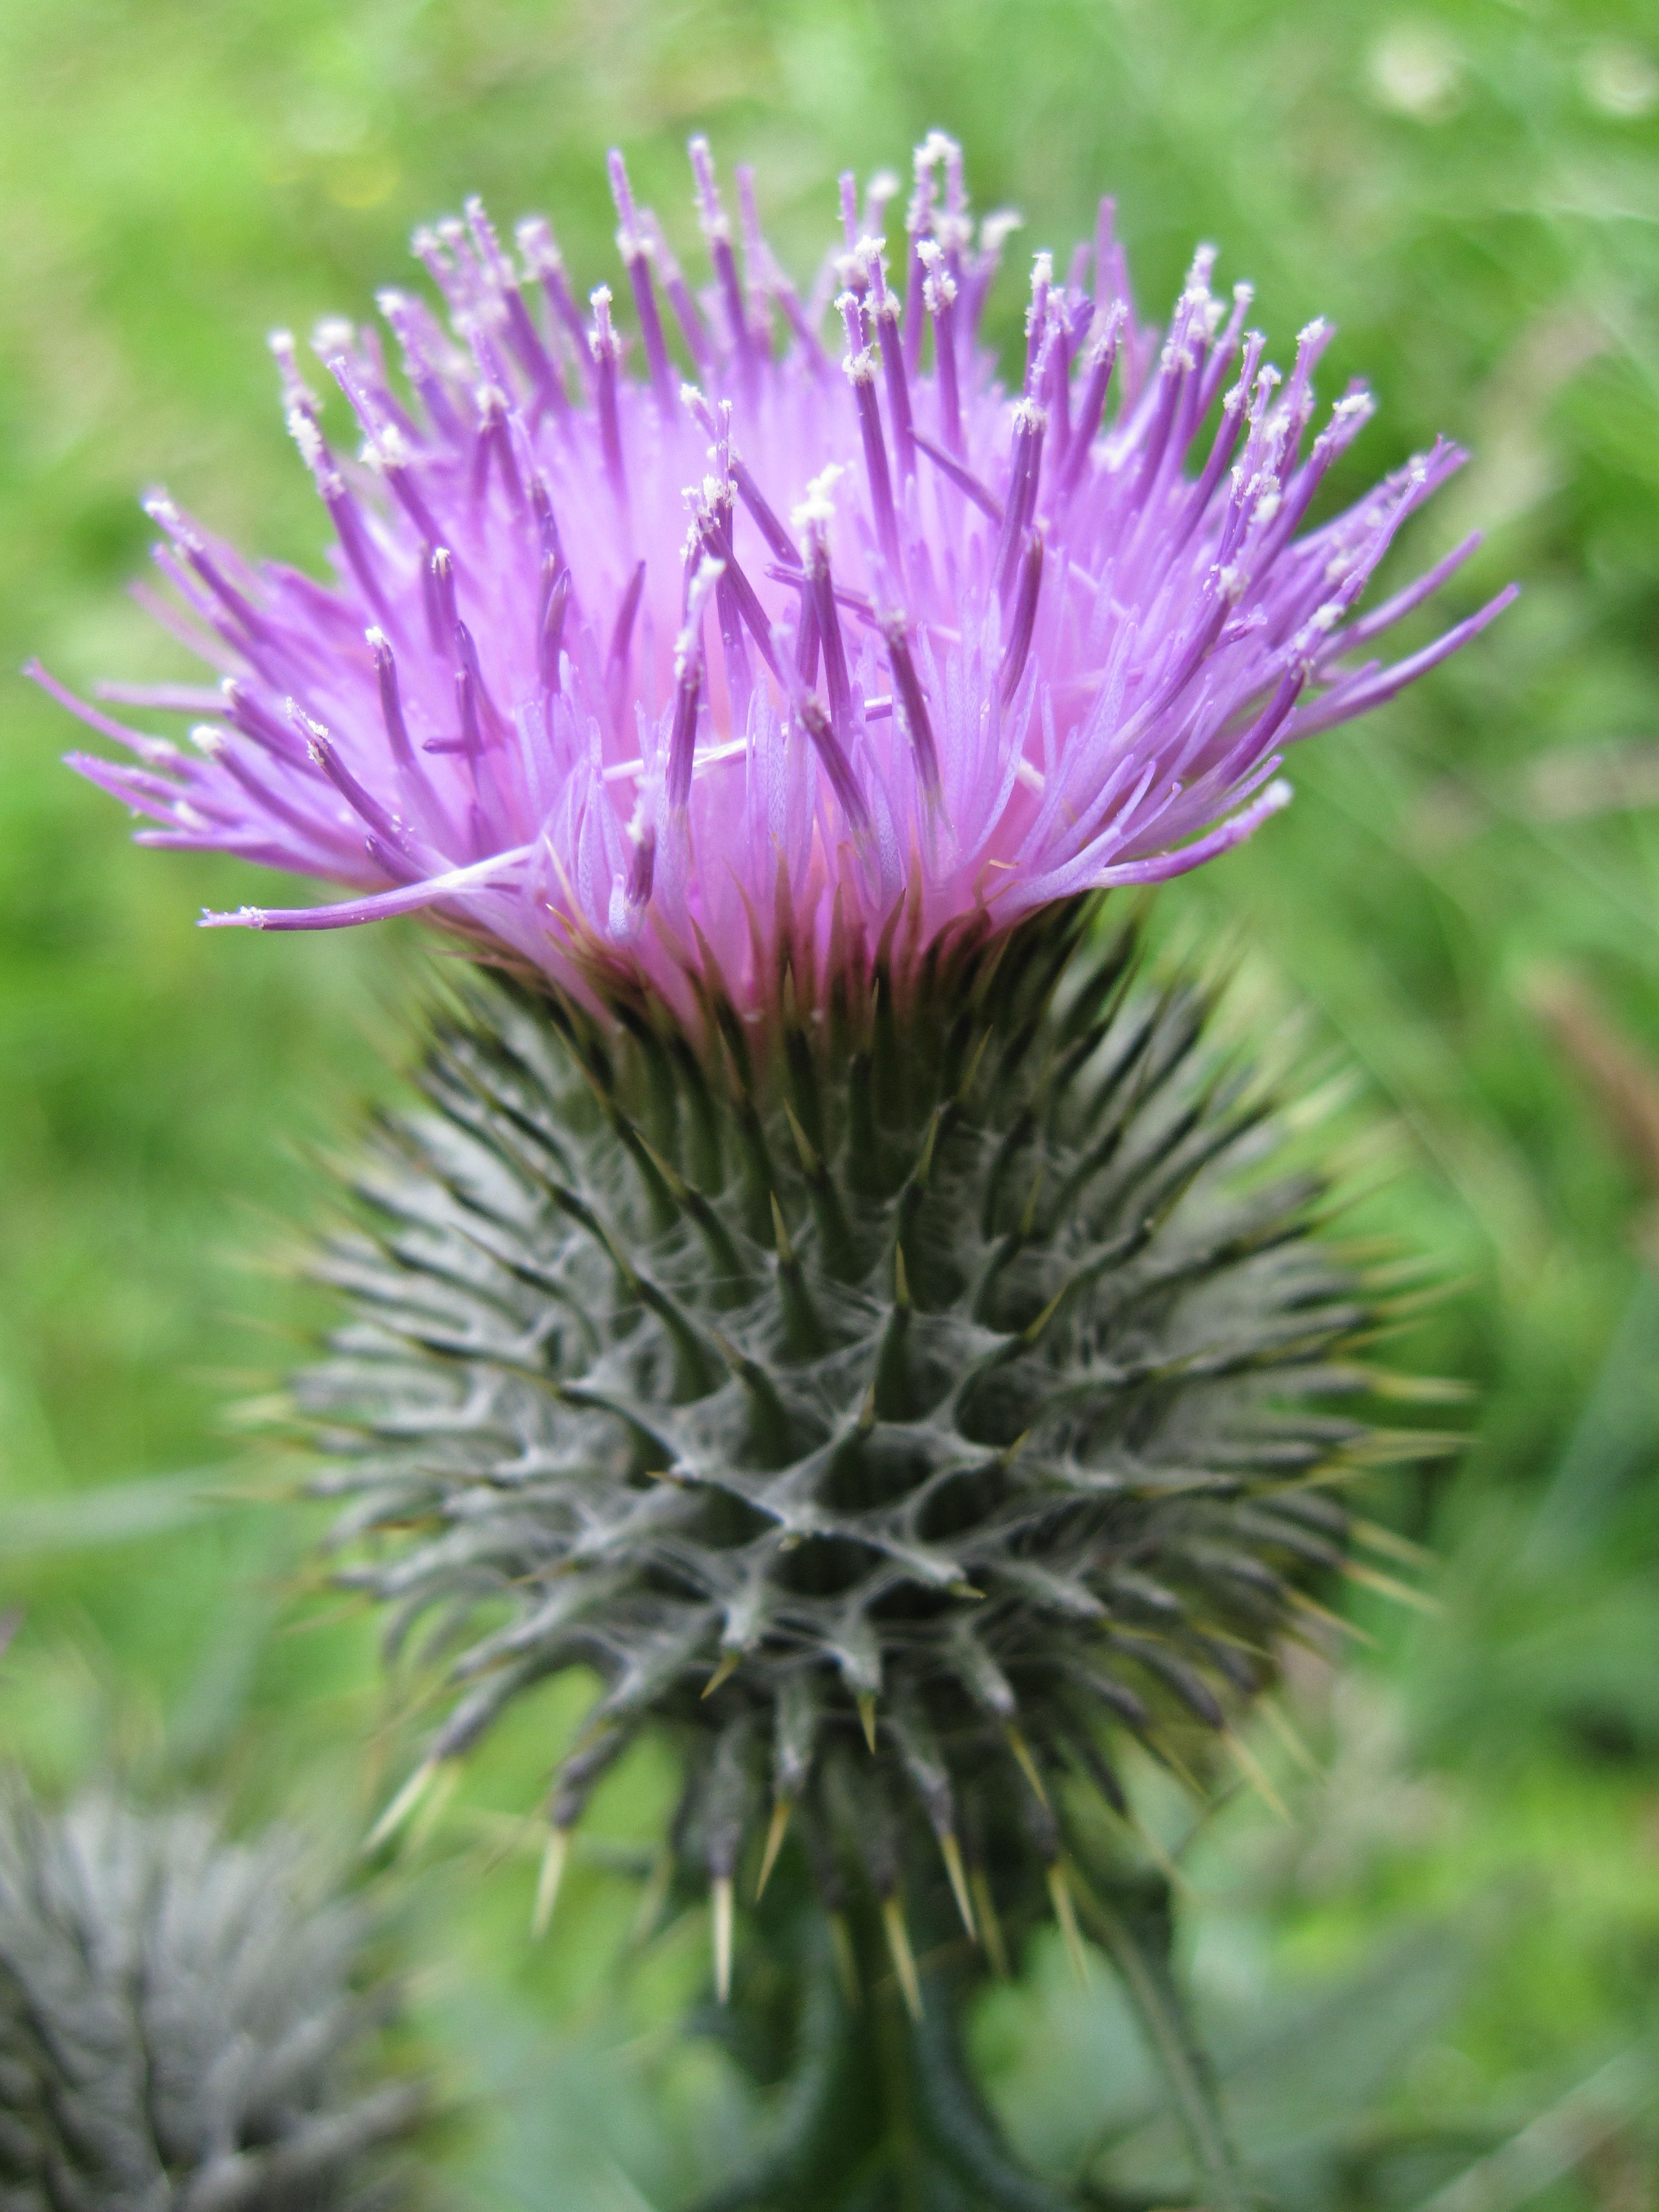thistle: (171, 143, 1445, 1930)
